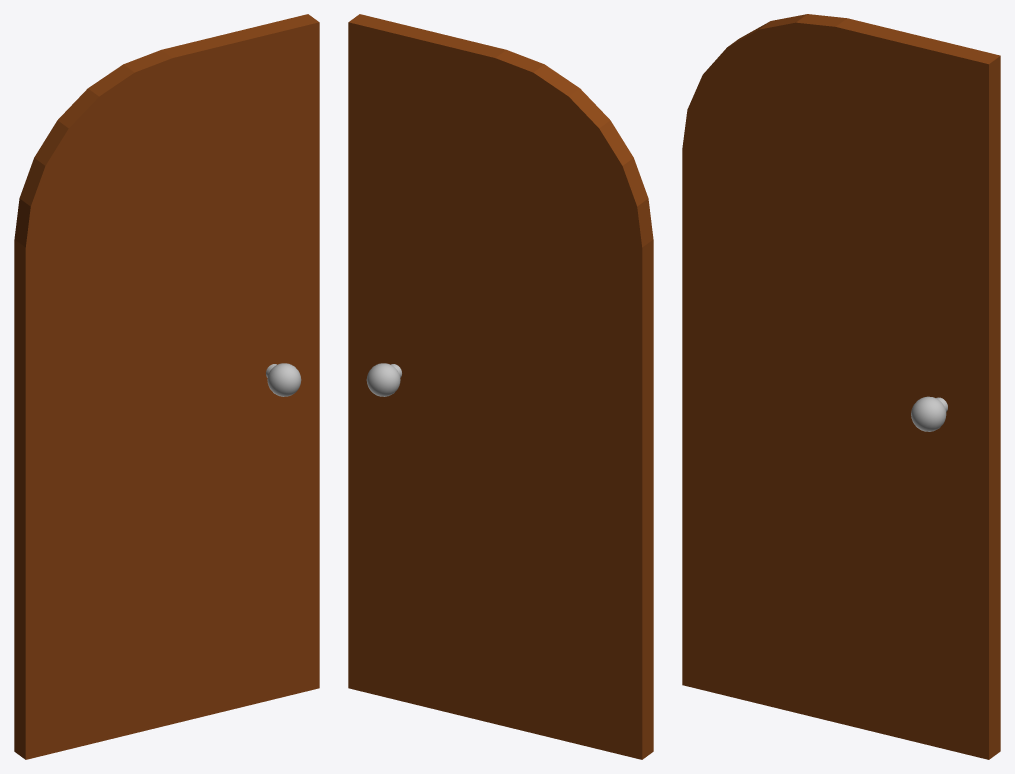
File: door6.fbx
The picture shows the model from 3 angles, left to right: view 1: azimuth 30°, elevation 25°; view 2: azimuth 150°, elevation 25°; view 3: azimuth 330°, elevation 25°; orthographic projection. The views are drawn at different scales.
Visible parts, largest first — view 1: Mesh3_Group_4_1 Model, Mesh1_Handle1 Group_4_1 Model; view 2: Mesh3_Group_4_1 Model, Mesh2_Handle2 Group_4_1 Model; view 3: Mesh3_Group_4_1 Model, Mesh1_Handle1 Group_4_1 Model.
Part boxes in pixels (x1,y1,x2,y2): Mesh3_Group_4_1 Model: [14, 14, 319, 759]; Mesh1_Handle1 Group_4_1 Model: [266, 363, 301, 396]; Mesh3_Group_4_1 Model: [348, 14, 653, 759]; Mesh2_Handle2 Group_4_1 Model: [366, 363, 401, 396]; Mesh3_Group_4_1 Model: [682, 14, 1000, 759]; Mesh1_Handle1 Group_4_1 Model: [911, 396, 947, 431].
Bounding box in the file's own units: 0.3 × 0.65 × 0.09.
